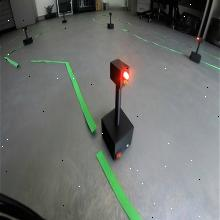red: (109, 58, 131, 89)
